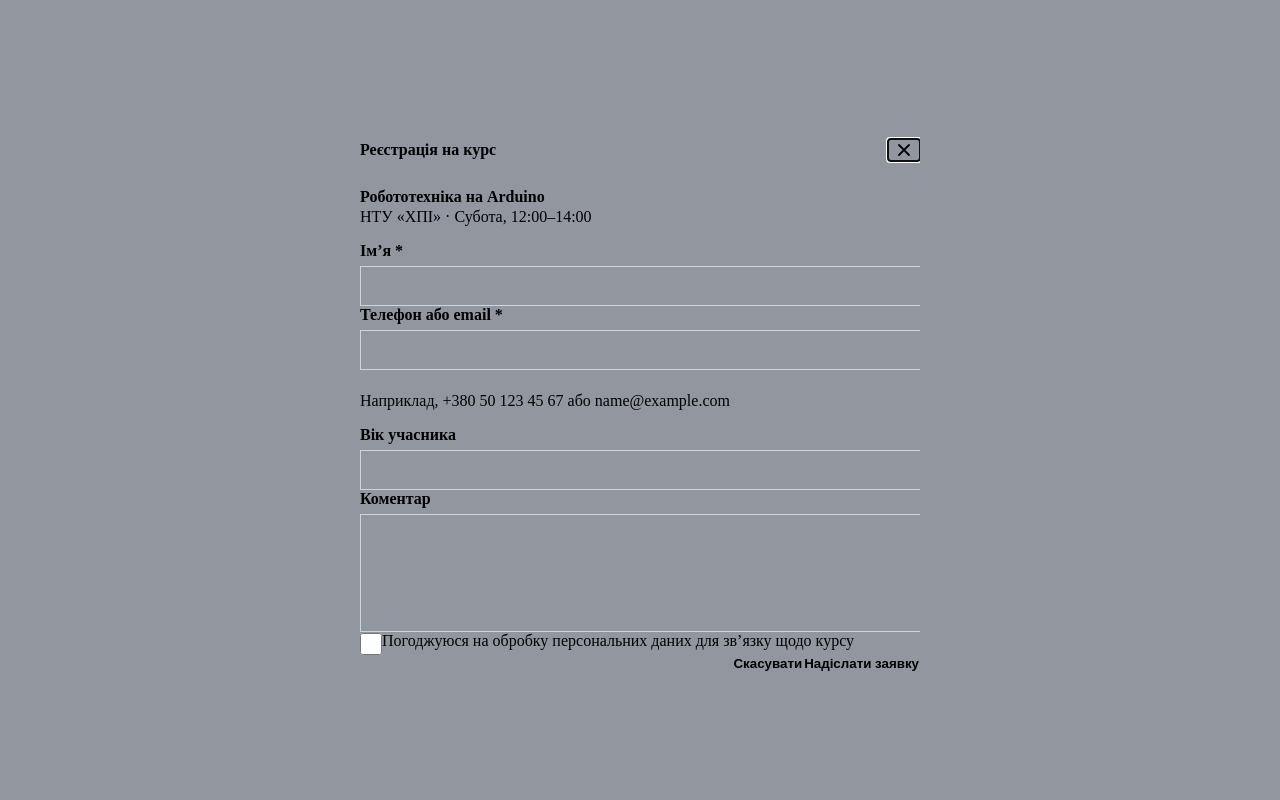
Test: RegistrationDialog › помилки валідації під полями, фокус на першому
Step 1. Click the button "Надіслати заявку" → point(862, 664), box [803,655,920,672]
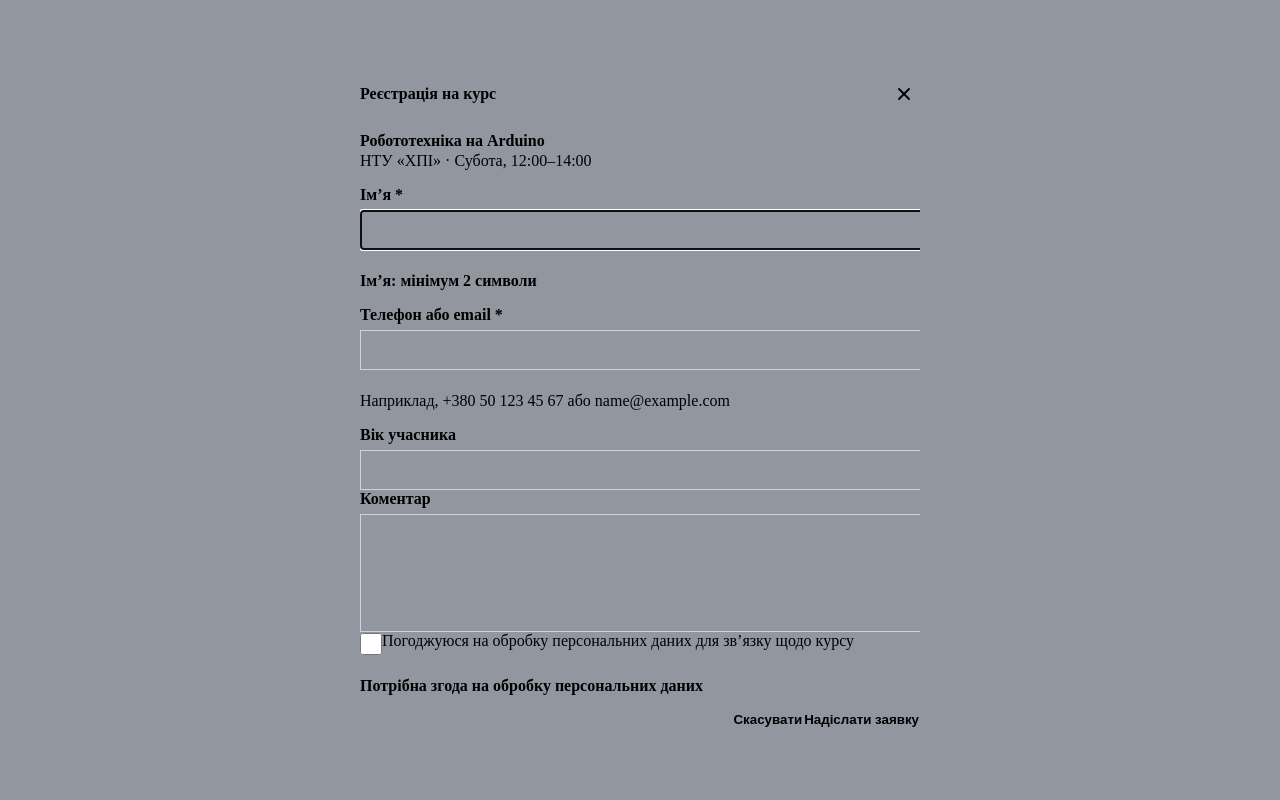
expect the text "Імʼя: мінімум 2 символи" is shown: met, box [360,272,537,289]
expect the text "Потрібна згода на обробку персональних даних" is shown: met, box [360,677,703,694]
